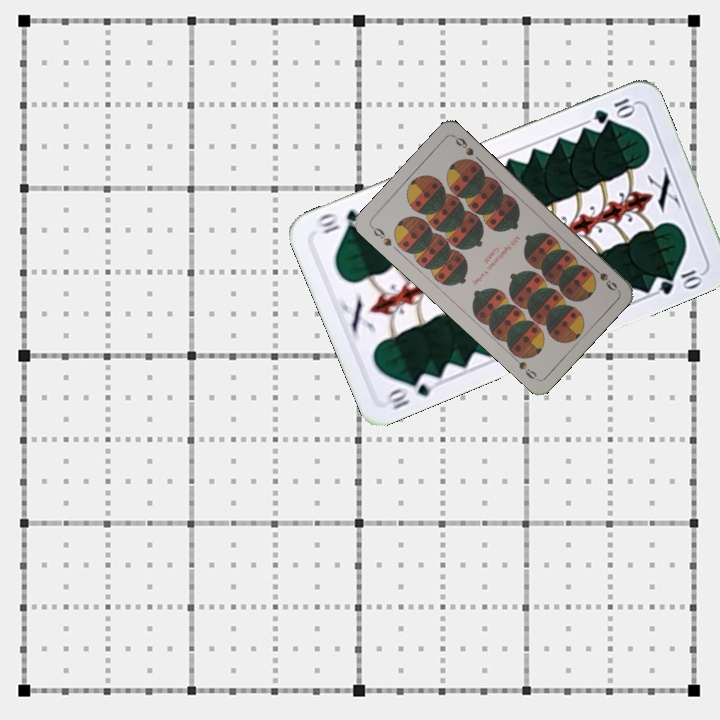G10: (384, 369, 440, 412), (589, 94, 638, 126)
S9: (587, 261, 620, 293), (367, 222, 394, 249)
